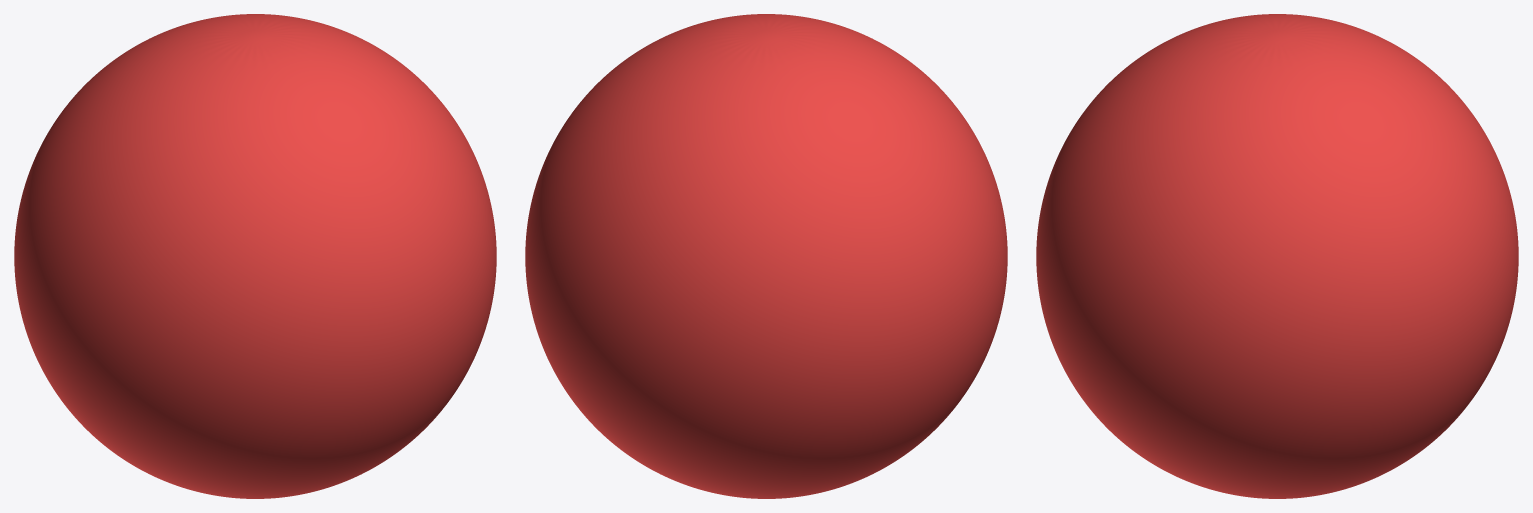
File: dalton.gltf
3 views of the same model, side by side, from view 1: azimuth 30°, elevation 25°; view 2: azimuth 150°, elevation 25°; view 3: azimuth 270°, elevation 25° (orthographic).
Parts seen in each view (by area): view 1: ทรงกลม; view 2: ทรงกลม; view 3: ทรงกลม.
Boxes of the visible parts, box(x1,y1,x2,y2) form: ทรงกลม: box(14, 14, 496, 498); ทรงกลม: box(525, 14, 1007, 498); ทรงกลม: box(1036, 14, 1518, 498).
Bounding box in the file's own units: 2.96 × 2.99 × 2.96.
1 material, 1 textured.
